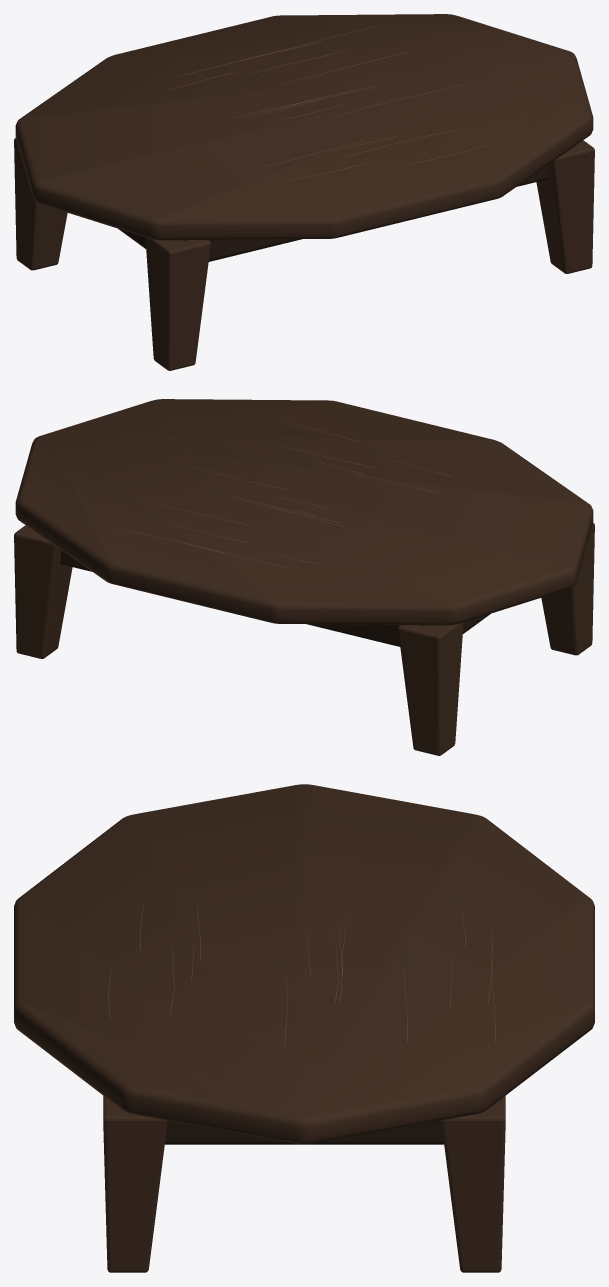
Rendered from table_coffee_walnut.fbx.
3 views of the same model, one above another, from view 1: azimuth 30°, elevation 25°; view 2: azimuth 150°, elevation 25°; view 3: azimuth 270°, elevation 25° (orthographic). The views are drawn at different scales.
Visible parts, largest first — view 1: table_coffee_walnut; view 2: table_coffee_walnut; view 3: table_coffee_walnut.
Boxes of the visible parts, x1,y1,x2,y2 form: table_coffee_walnut: [14, 14, 594, 370]; table_coffee_walnut: [14, 399, 594, 755]; table_coffee_walnut: [14, 784, 594, 1272].
Bounding box in the file's own units: 1.45 × 0.3805 × 1.05.
